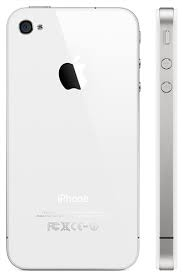iphone: (1, 2, 142, 273)
iphone4: (1, 2, 141, 273)
